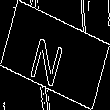N_N: (34, 24, 76, 86)
